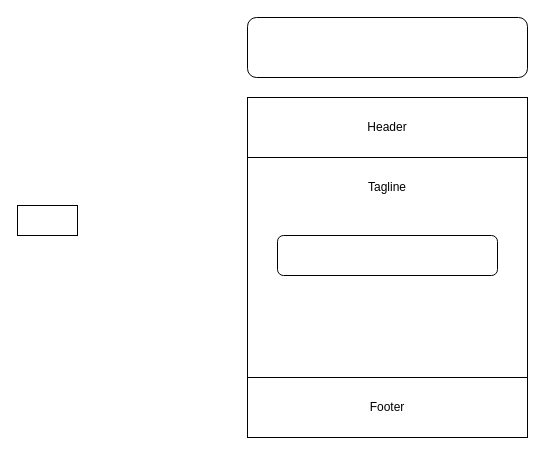
The diagram is 545 pixels wide and 455 high, and some of its shapes have lost their labels. Here are the shapes that lost their labels. From the top down, the centre of each, then its label:
At point (387, 47): "Real Estate Weather App".
At point (387, 255): "Search".
